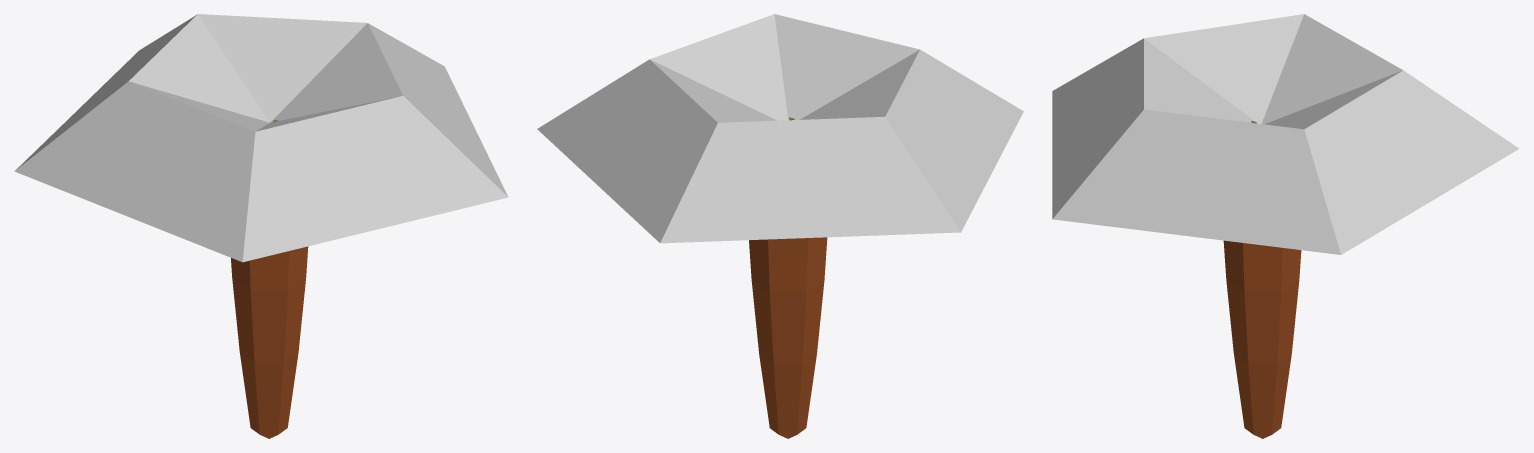
File: SM_Envr_Nature_Farm_Plant_Carrot.fbx
3 views of the same model, side by side, from view 1: azimuth 30°, elevation 25°; view 2: azimuth 150°, elevation 25°; view 3: azimuth 270°, elevation 25° (orthographic).
Parts seen in each view (by area): view 1: SM_Envr_Nature_Farm_Plant_Carrot; view 2: SM_Envr_Nature_Farm_Plant_Carrot; view 3: SM_Envr_Nature_Farm_Plant_Carrot.
Boxes of the visible parts, left/top/right/bottom form: SM_Envr_Nature_Farm_Plant_Carrot: left=14, top=14, right=508, bottom=438; SM_Envr_Nature_Farm_Plant_Carrot: left=537, top=14, right=1023, bottom=438; SM_Envr_Nature_Farm_Plant_Carrot: left=1052, top=14, right=1519, bottom=438.
Bounding box in the file's own units: 33.37 × 27.63 × 31.73.
